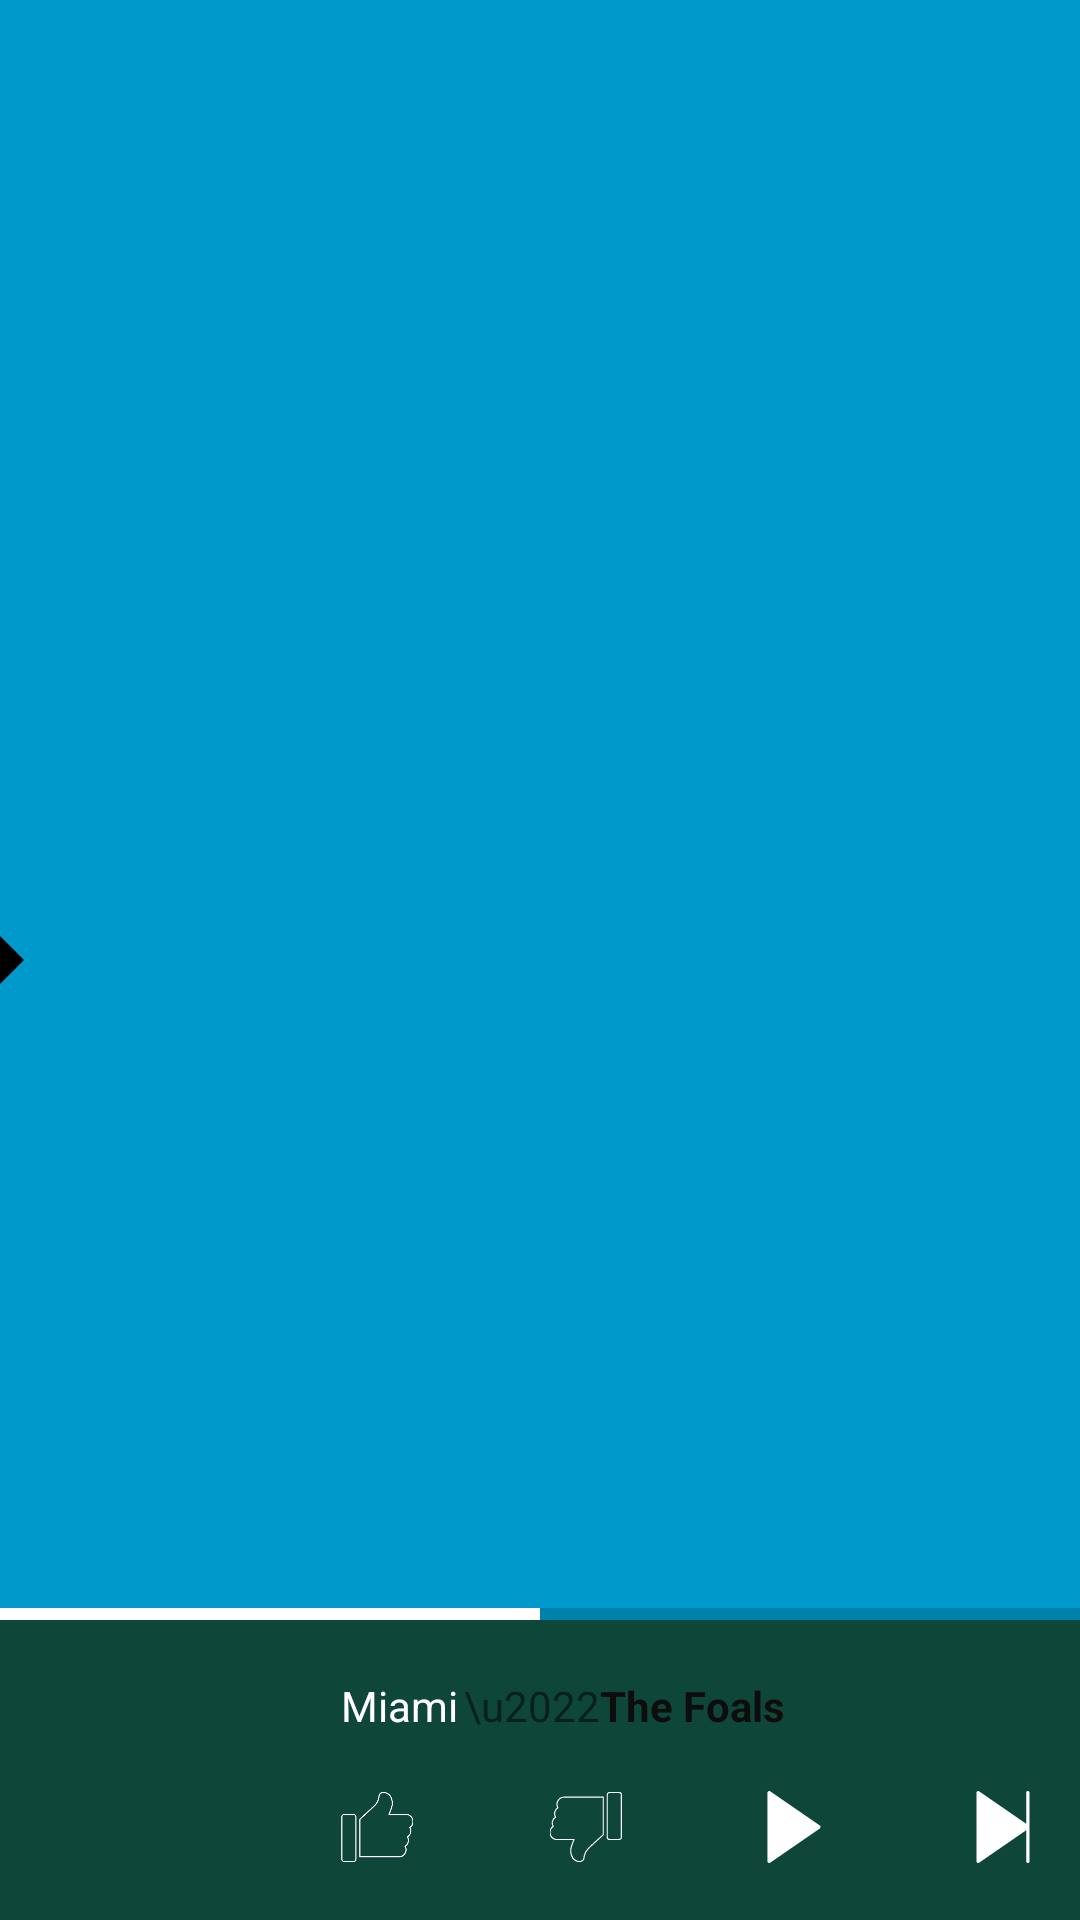

Icon bounding boxes for this 1080x1920 phone screenshot, format (x1, y1, x2, y2):
dislike off: (550, 1792, 622, 1862)
like off: (341, 1792, 413, 1862)
next: (976, 1791, 1030, 1863)
play: (767, 1791, 821, 1863)
sel item cutout: (0, 936, 24, 984)
